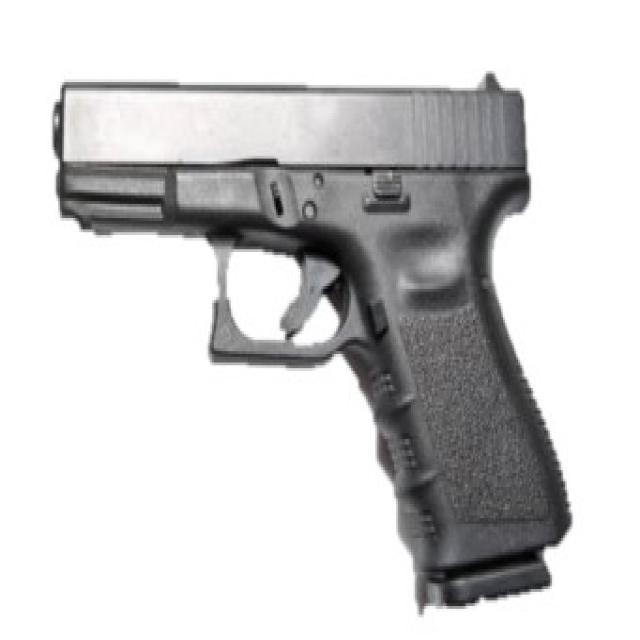pistol: (55, 58, 583, 626)
